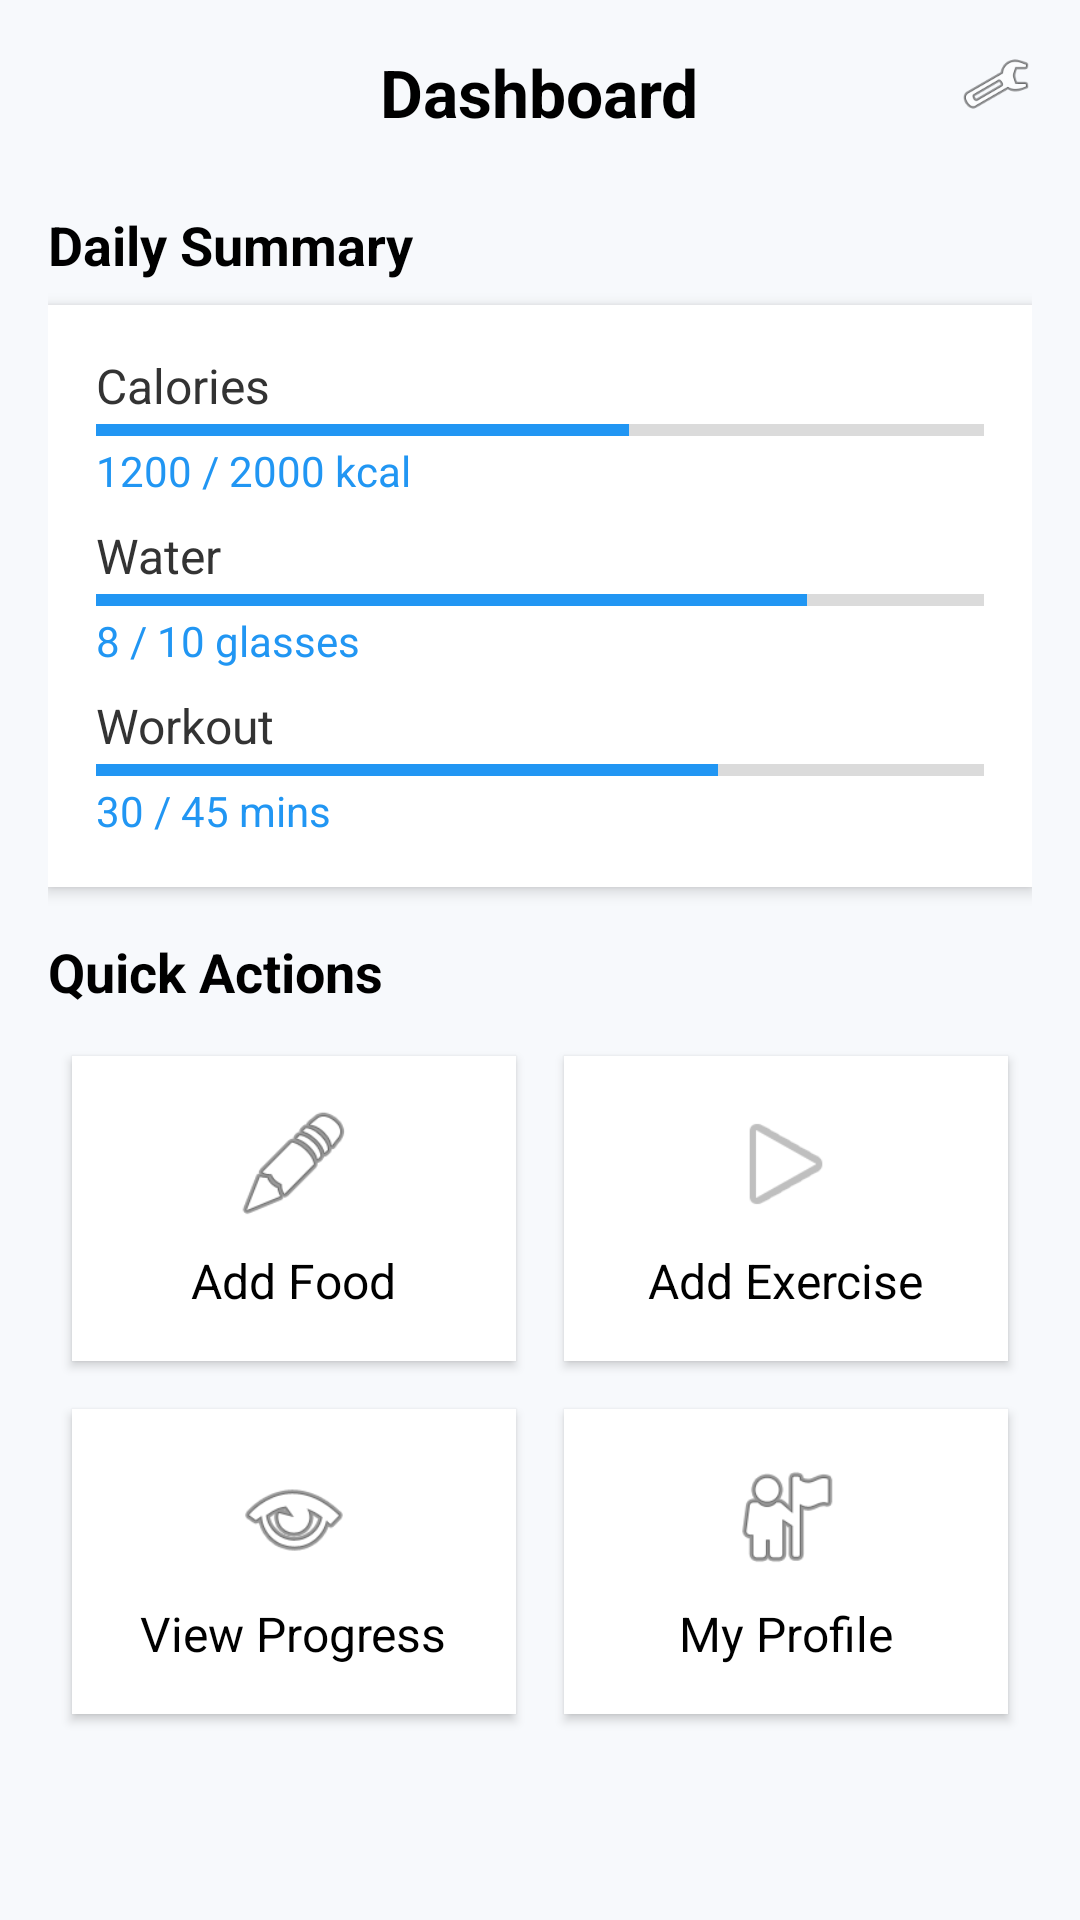

Where to tap for icons on this 1080x1920 app screen, as (x,y):
edit: (293,1163)
play: (786,1164)
Settings: (995,84)
